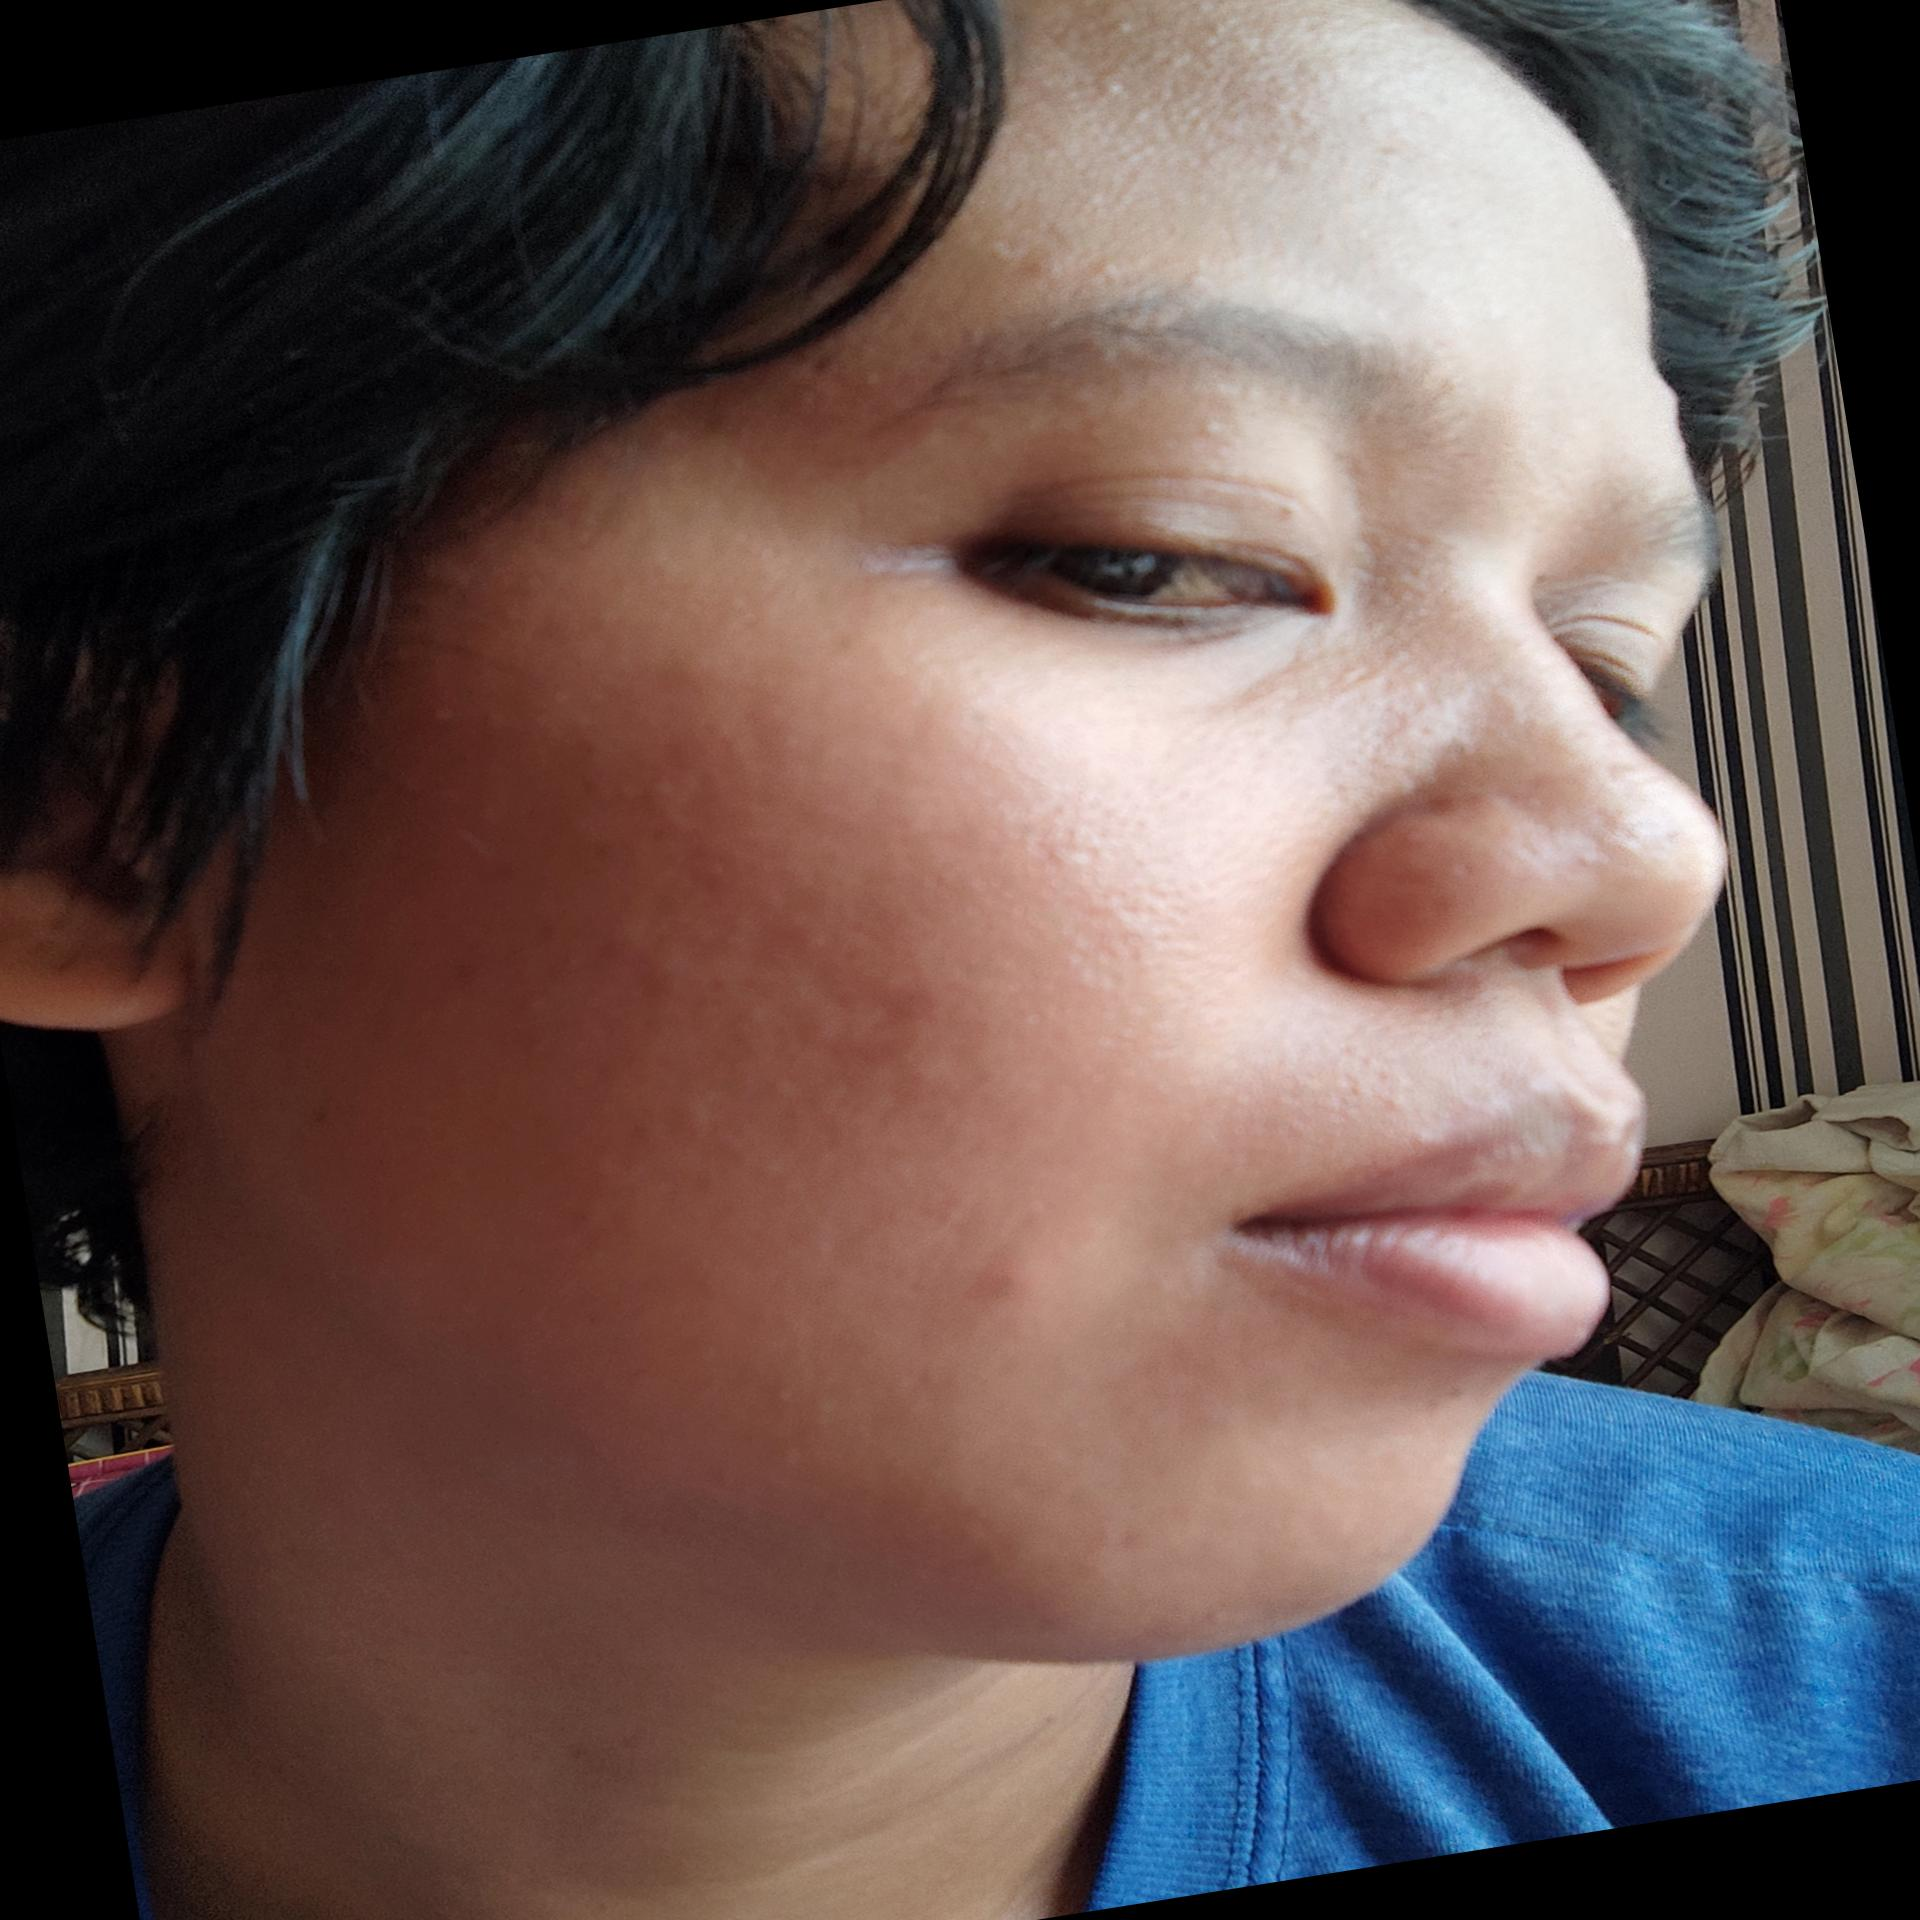Acne: (958, 1255, 1055, 1329)
Englarged Pores: (1486, 738, 1644, 895)
